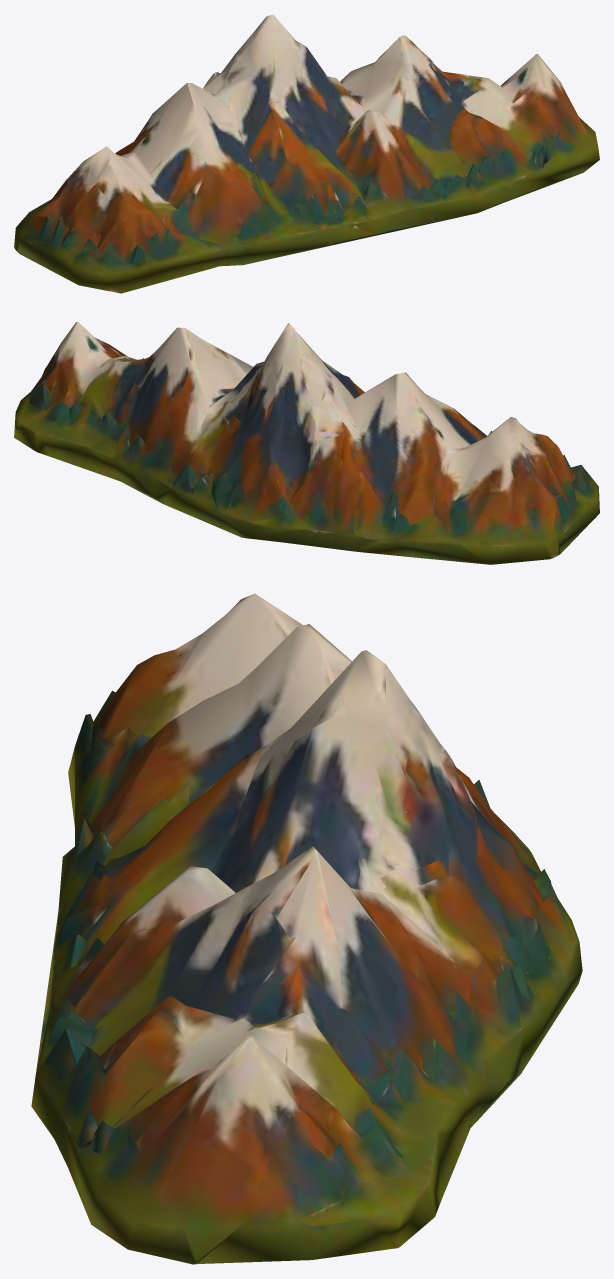
File: chablais.lod.glb
3 renders of one model, top to bottom at view 1: azimuth 30°, elevation 25°; view 2: azimuth 150°, elevation 25°; view 3: azimuth 270°, elevation 25°, orthographic. The views are drawn at different scales.
Parts seen in each view (by area): view 1: textured_mesh.obj; view 2: textured_mesh.obj; view 3: textured_mesh.obj.
Boxes of the visible parts, x1=… form: textured_mesh.obj: x1=14, y1=14, x2=599, y2=293; textured_mesh.obj: x1=14, y1=322, x2=599, y2=564; textured_mesh.obj: x1=31, y1=593, x2=582, y2=1264.
Size of the model in its own units: 3.31 by 0.9986 by 1.46.
Materials: 1 (1 with a texture image).
